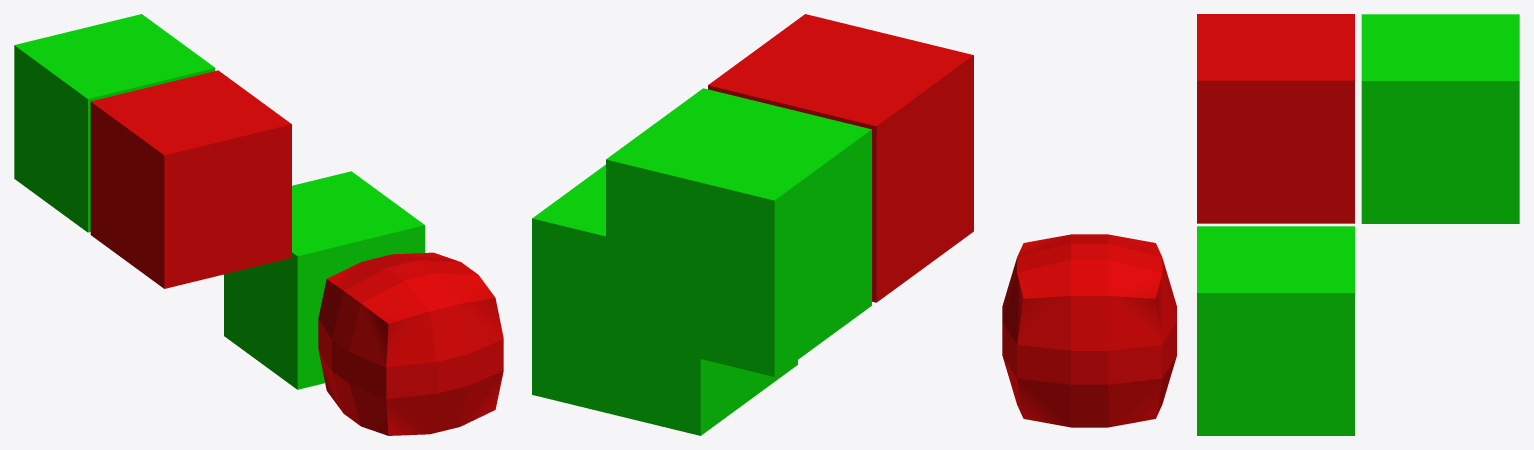
Rendered from cubes_with_names.fbx.
3 views of the same model, side by side, from view 1: azimuth 30°, elevation 25°; view 2: azimuth 150°, elevation 25°; view 3: azimuth 270°, elevation 25° (orthographic). The views are drawn at different scales.
Parts seen in each view (by area): view 1: Куб1 (×2), Cube3, Cube2; view 2: Cube2, Cube3, Куб1; view 3: Куб1 (×2), Cube2, Cube3.
Boxes of the visible parts, left/top/right/bottom form: Куб1 (×2): left=224, top=171, right=503, bottom=435; Cube3: left=90, top=70, right=291, bottom=288; Cube2: left=14, top=14, right=215, bottom=232; Cube2: left=606, top=88, right=871, bottom=376; Cube3: left=708, top=14, right=973, bottom=302; Куб1: left=532, top=164, right=797, bottom=435; Куб1 (×2): left=1002, top=226, right=1354, bottom=435; Cube2: left=1361, top=14, right=1519, bottom=223; Cube3: left=1197, top=14, right=1354, bottom=223.
Bounding box in the file's own units: 20.93 × 20.51 × 32.77.
